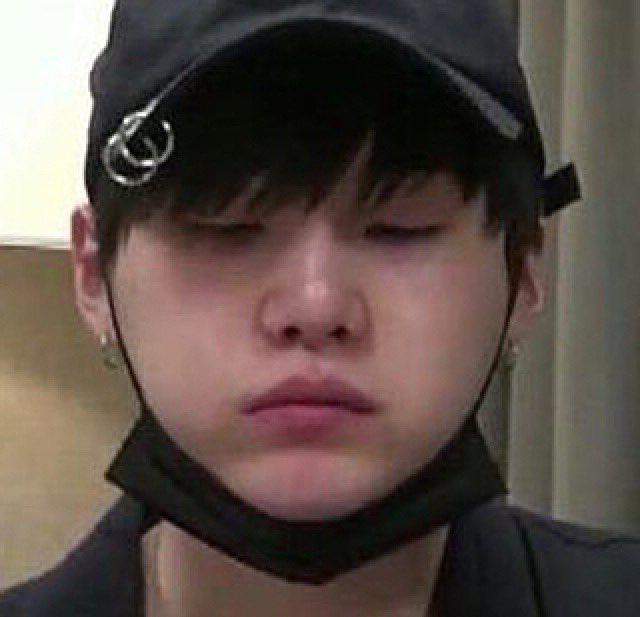mask_weared_incorrect: (127, 205, 479, 557)
